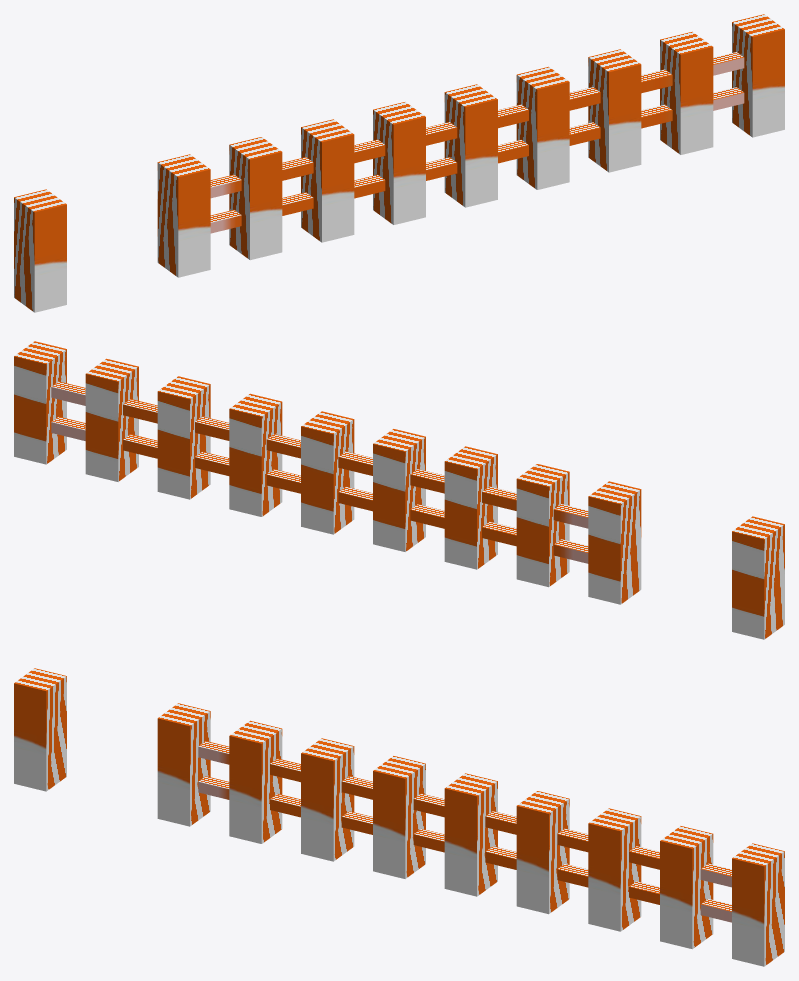
Rendered from Fence8.fbx.
3 renders of one model, top to bottom at view 1: azimuth 30°, elevation 25°; view 2: azimuth 150°, elevation 25°; view 3: azimuth 330°, elevation 25°, orthographic.
Visible parts, largest first — view 1: fence_short_mesh; view 2: fence_short_mesh; view 3: fence_short_mesh.
Part boxes in pixels (left/top/right/bottom): fence_short_mesh: left=14, top=14, right=784, bottom=312; fence_short_mesh: left=14, top=341, right=784, bottom=639; fence_short_mesh: left=14, top=668, right=784, bottom=966.
Bounding box in the file's own units: 836 × 107 × 39.99.
